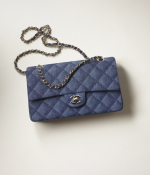channel: (18, 55, 129, 127), (71, 94, 86, 108)
